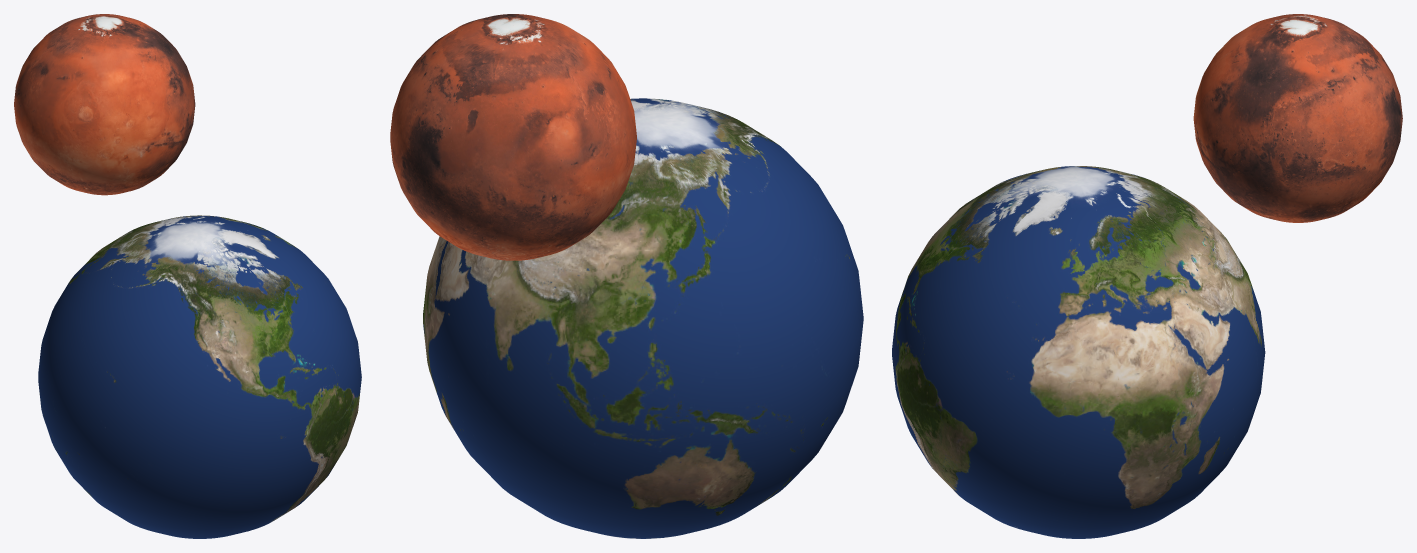
The model's file is earthmars.glb.
3 renders of one model, left to right at view 1: azimuth 30°, elevation 25°; view 2: azimuth 150°, elevation 25°; view 3: azimuth 270°, elevation 25°, orthographic. The views are drawn at different scales.
Parts seen in each view (by area): view 1: Сфера.001, Сфера; view 2: Сфера.001, Сфера; view 3: Сфера.001, Сфера.
Part boxes in pixels (box(x1,y1,x2,y2)): Сфера.001: box(38, 215, 361, 538); Сфера: box(14, 14, 195, 195); Сфера.001: box(423, 98, 863, 538); Сфера: box(390, 14, 636, 260); Сфера.001: box(892, 166, 1265, 538); Сфера: box(1193, 14, 1402, 222).
Bounding box in the file's own units: 3.57 × 5.25 × 4.88.
Materials: 2 (2 with a texture image).
